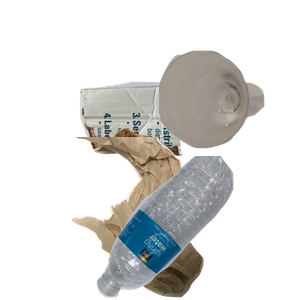cardboard: (77, 79, 251, 227)
glass: (156, 48, 300, 189)
plastic: (94, 156, 300, 300)
trash: (66, 137, 263, 300)
